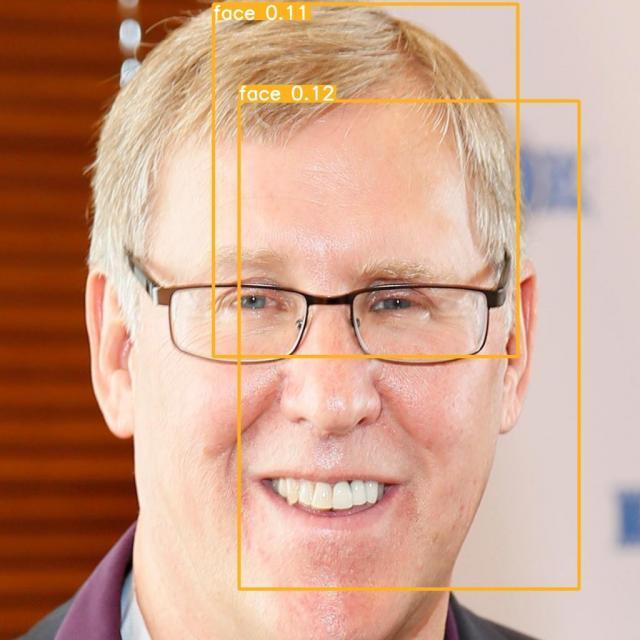Face: (239, 101, 579, 588), (213, 4, 518, 356)
